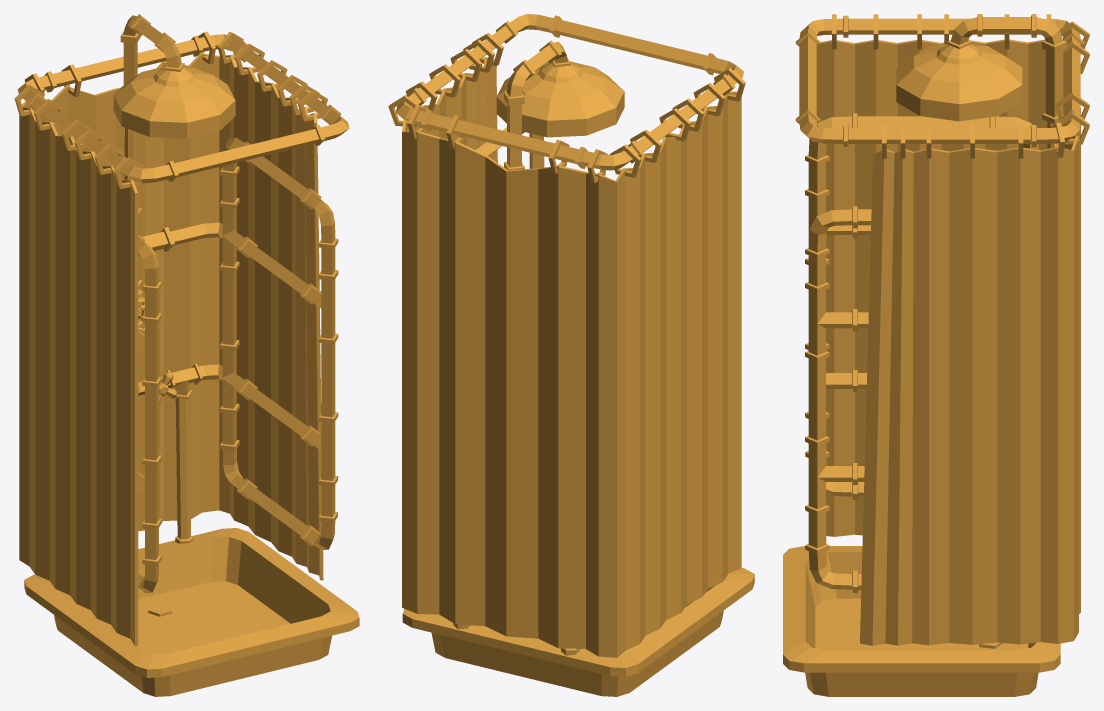
The model's file is SM_Shower_Steampunk.fbx.
3 renders of one model, left to right at view 1: azimuth 30°, elevation 25°; view 2: azimuth 150°, elevation 25°; view 3: azimuth 270°, elevation 25°, orthographic. The views are drawn at different scales.
Parts seen in each view (by area): view 1: shower-steampunk; view 2: shower-steampunk; view 3: shower-steampunk.
Boxes of the visible parts, x1=… form: shower-steampunk: x1=14, y1=14, x2=359, y2=696; shower-steampunk: x1=388, y1=14, x2=754, y2=696; shower-steampunk: x1=783, y1=14, x2=1089, y2=696.
Size of the model in its own units: 1 by 2.38 by 1.04.
